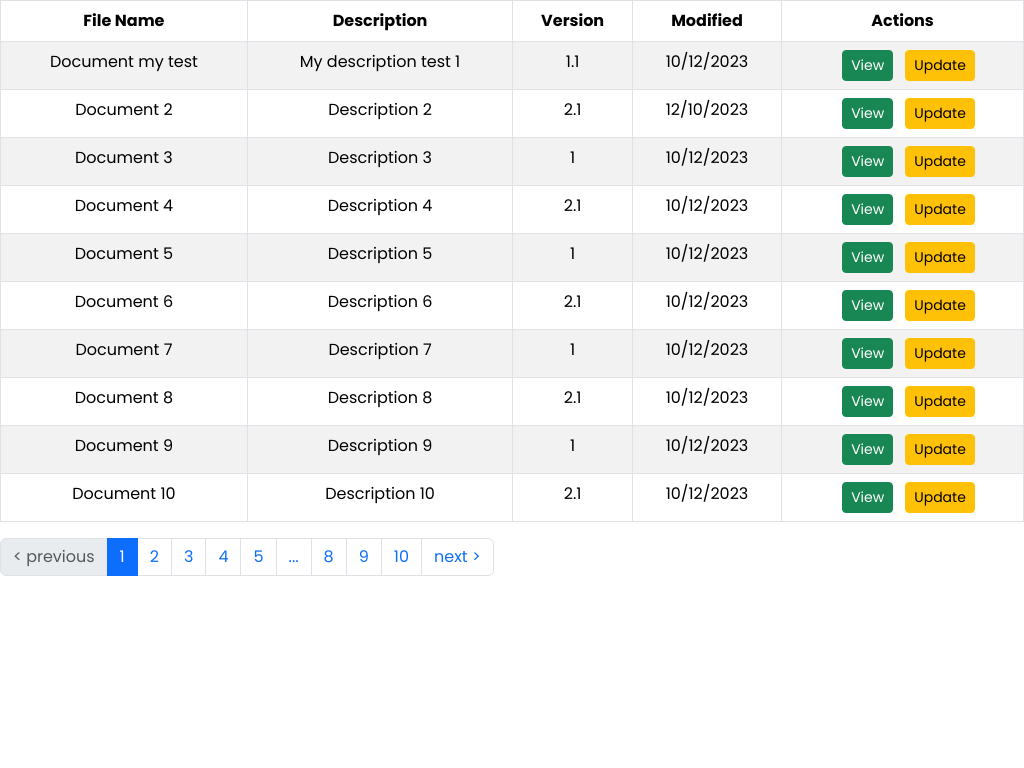
Test: DocumentList Component › handles pagination correctly
The image size is (1024, 768).
Simulate clicking the next page button
Click the button "next >". click: (457, 557)
box: x1=421 y1=538 x2=494 y2=576
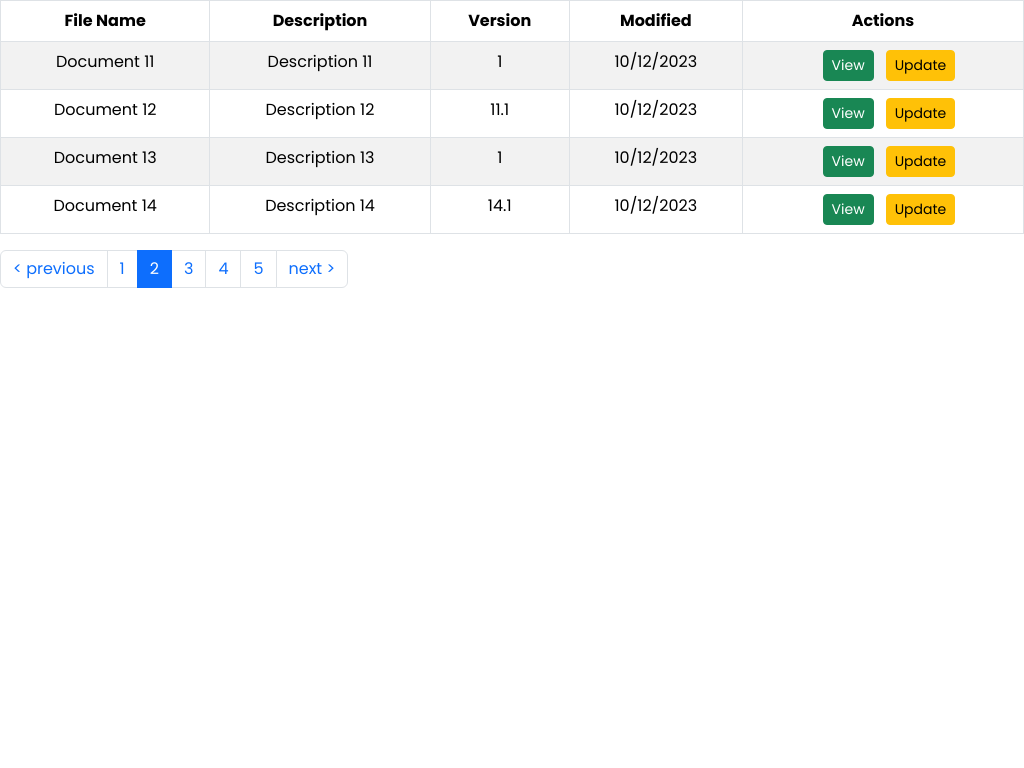
Now the text "Document 11" is shown, box x1=0 y1=42 x2=210 y2=90
Now the text "11.1" is shown, box x1=430 y1=90 x2=569 y2=138
